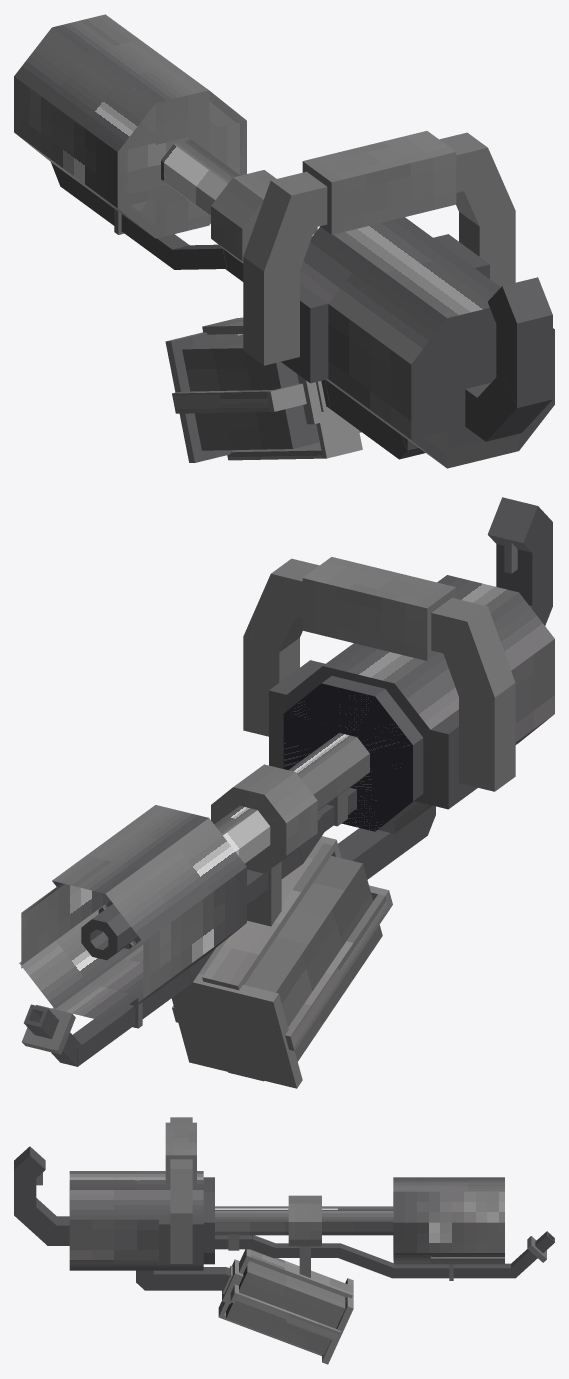
The model's file is mteg_flamer.glb.
The picture shows the model from 3 angles, top to bottom: view 1: azimuth 30°, elevation 25°; view 2: azimuth 150°, elevation 25°; view 3: azimuth 270°, elevation 25°; orthographic projection. The views are drawn at different scales.
Parts seen in each view (by area): view 1: Gun; view 2: Gun; view 3: Gun.
Boxes of the visible parts, bbox=[...] form: Gun: bbox=[14, 14, 554, 468]; Gun: bbox=[19, 497, 554, 1088]; Gun: bbox=[14, 1117, 554, 1364].
Bounding box in the file's own units: 0.4375 × 0.6599 × 1.51.
Materials: 1 (1 with a texture image).
